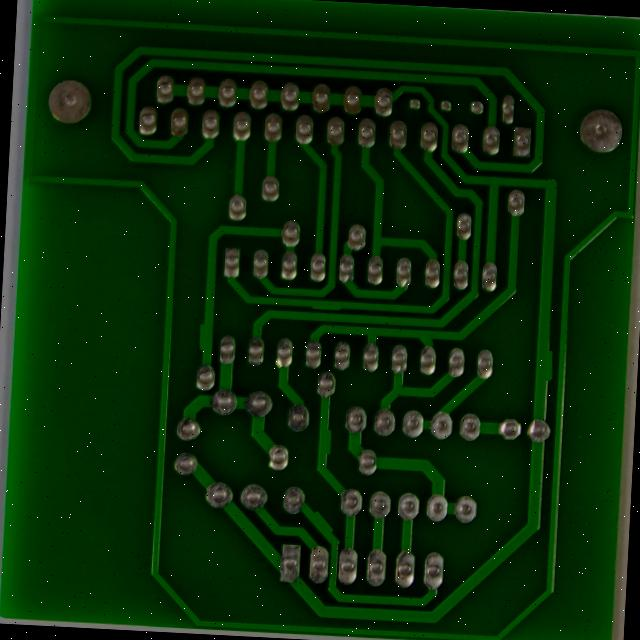spur: (522, 326, 555, 375), (291, 499, 327, 529), (171, 300, 195, 340), (302, 413, 324, 449), (290, 279, 332, 296)
